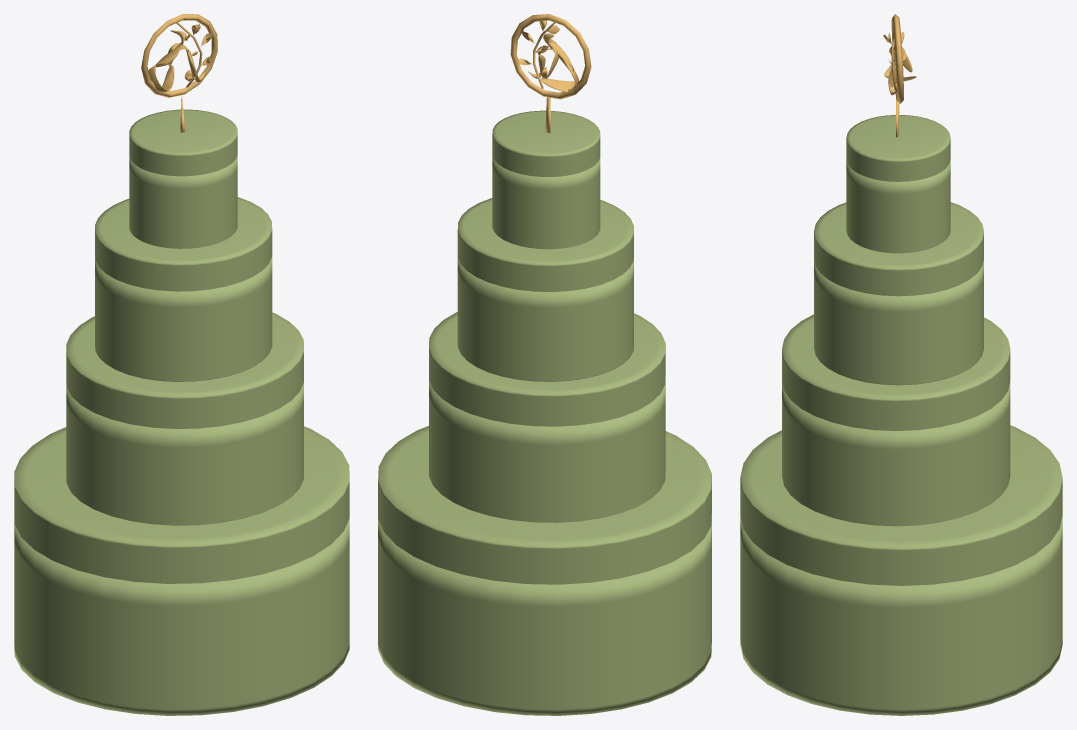
Rendered from 4-tier-pistage-none-ring.glb.
3 renders of one model, left to right at view 1: azimuth 30°, elevation 25°; view 2: azimuth 150°, elevation 25°; view 3: azimuth 270°, elevation 25°, orthographic.
Visible parts, largest first — view 1: 3.001, 3, 2, 1, Cylinder.006; view 2: 3.001, 3, 2, 1, Cylinder.006; view 3: 3.001, 3, 2, 1, Cylinder.006.
Part boxes in pixels (x1,y1,x2,y2): 3.001: (14, 426, 349, 715); 3: (66, 312, 303, 525); 2: (95, 197, 272, 381); 1: (129, 109, 237, 248); Cylinder.006: (141, 14, 217, 132); 3.001: (378, 426, 711, 715); 3: (429, 312, 665, 522); 2: (457, 198, 633, 381); 1: (492, 110, 600, 249); Cylinder.006: (510, 14, 591, 132); 3.001: (740, 425, 1062, 715); 3: (782, 314, 1010, 526); 2: (814, 202, 983, 385); 1: (846, 115, 950, 253); Cylinder.006: (883, 14, 916, 137).
Size of the model in its own units: 4.43 by 9.13 by 4.27.
